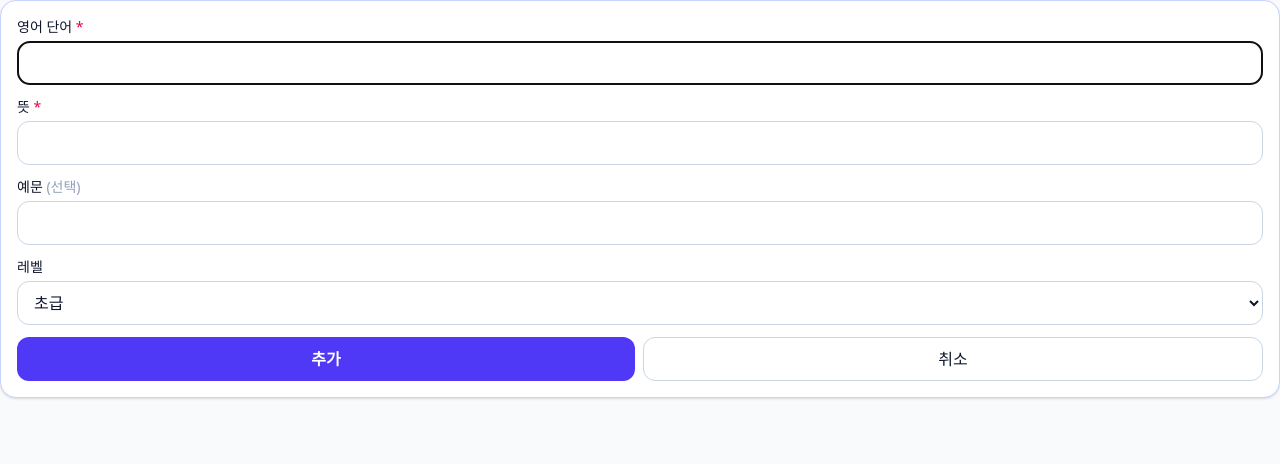
Test: WordForm: 필수값 검증 › 입력하면 해당 필드의 오류가 사라진다
Click the button "추가".
click(326, 359)  # box 17,337 -> 635,381
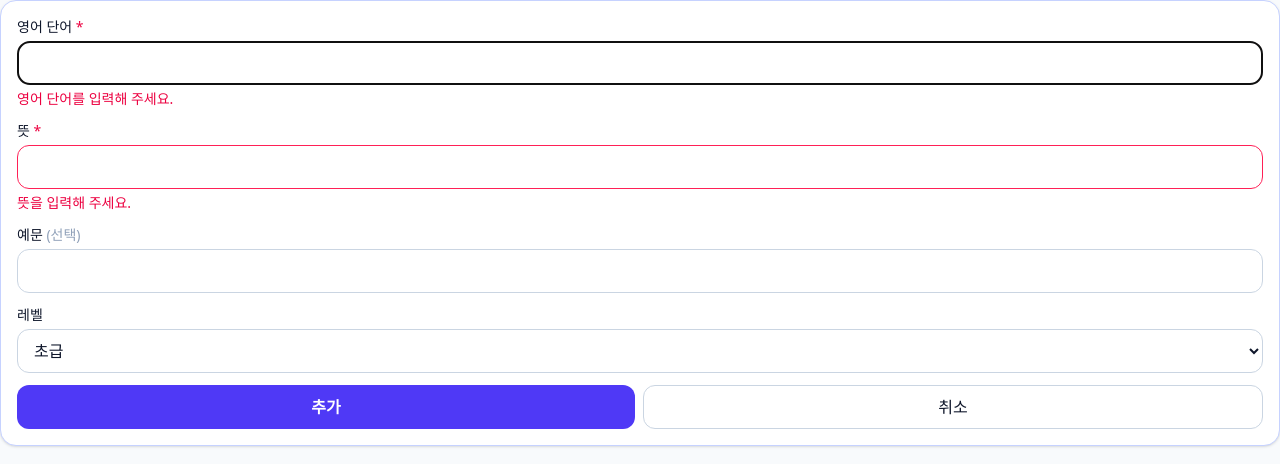
Type "a" into the field labelled "영어 단어 *".
click(640, 63); type("a")  # box 17,41 -> 1263,85
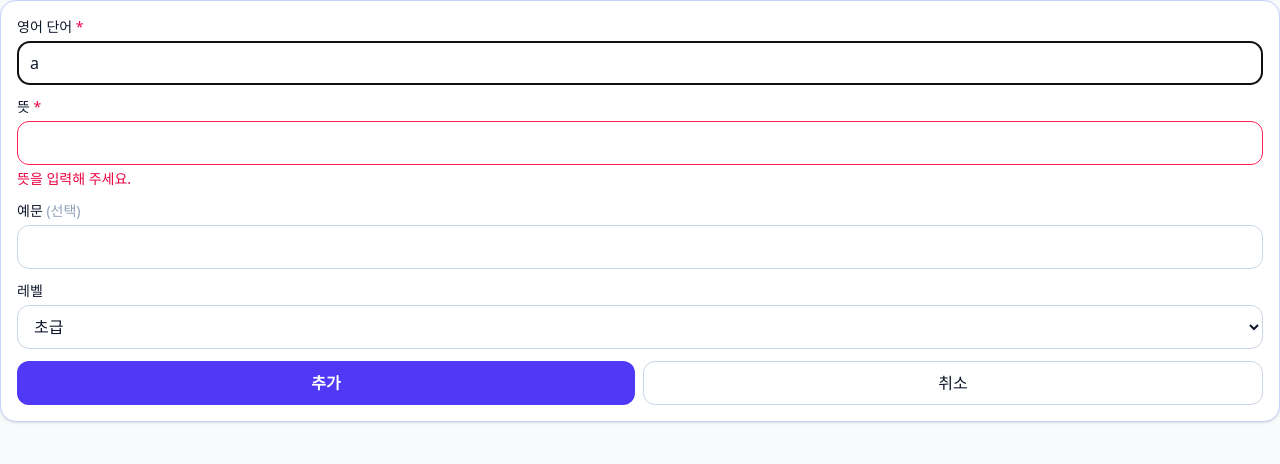
Expected: the text "뜻을 입력해 주세요." is shown, 17,169 -> 131,188
Expected: the text "영어 단어를 입력해 주세요." is gone
